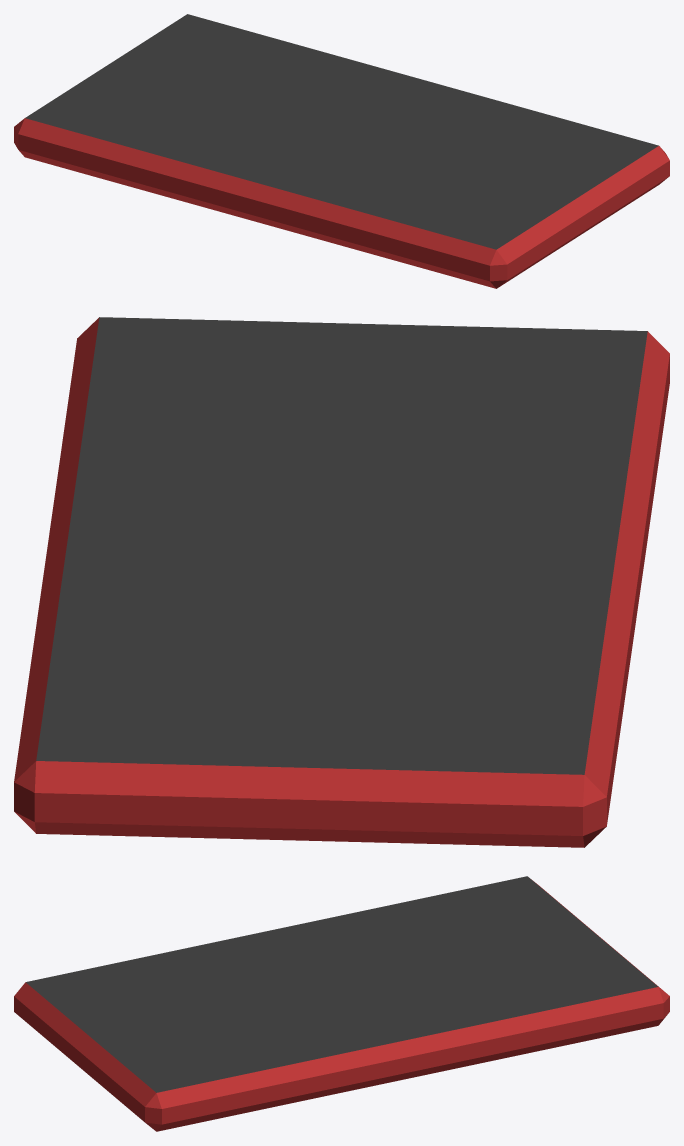
The model's file is Mobile.fbx.
3 views of the same model, one above another, from view 1: azimuth 30°, elevation 25°; view 2: azimuth 150°, elevation 25°; view 3: azimuth 270°, elevation 25° (orthographic). The views are drawn at different scales.
Parts seen in each view (by area): view 1: Mobile; view 2: Mobile; view 3: Mobile.
Boxes of the visible parts, left/top/right/bottom form: Mobile: left=14, top=14, right=669, bottom=288; Mobile: left=14, top=317, right=669, bottom=847; Mobile: left=14, top=876, right=669, bottom=1131.
Bounding box in the file's own units: 18.55 × 22.78 × 1.61.
